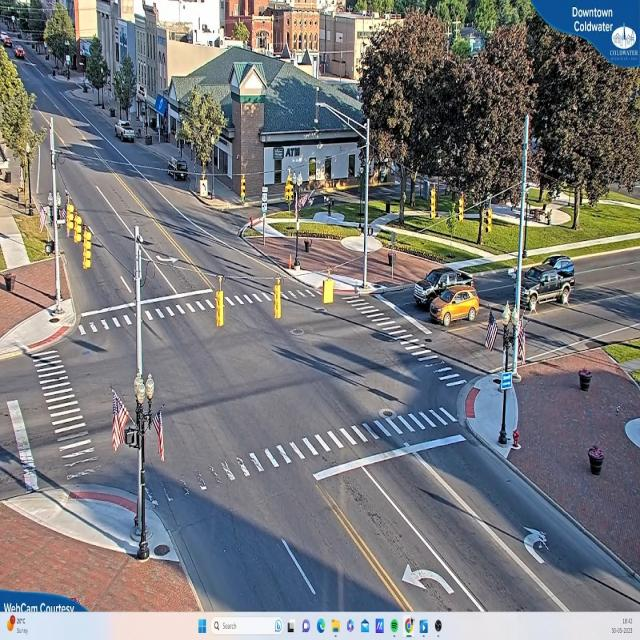car: (522, 263, 572, 310), (430, 292, 480, 326), (412, 265, 451, 301), (544, 256, 574, 279), (116, 123, 137, 143)
